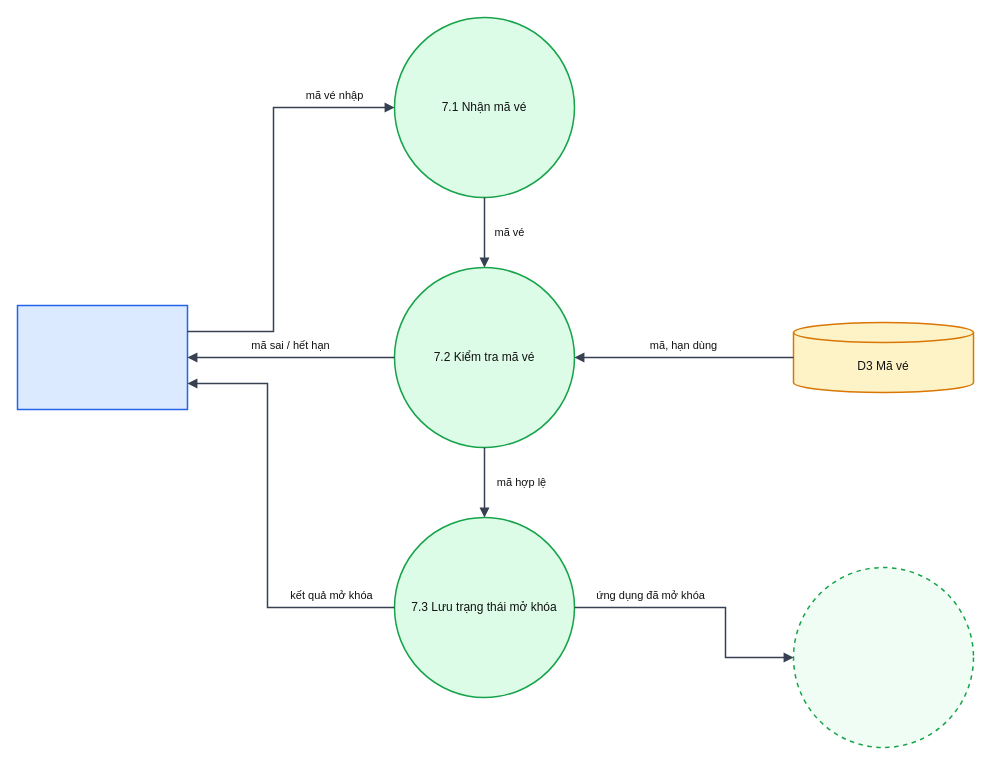
The diagram is 992 pixels wide and 766 high, and some of its shapes have lost their labels. Each missing label, with the centre of its shape:
"1.0 Xem danh sách POI" belongs at point (883, 657).
"Khách tham quan" belongs at point (102, 357).
